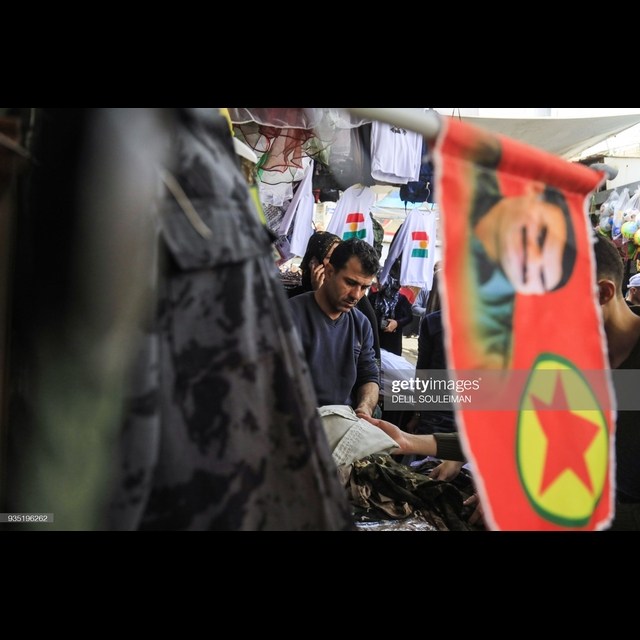PKK: (519, 348, 608, 525)
